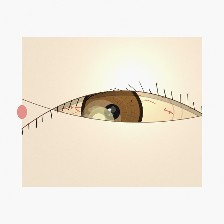corneal_ulcer: (79, 103, 123, 139)
